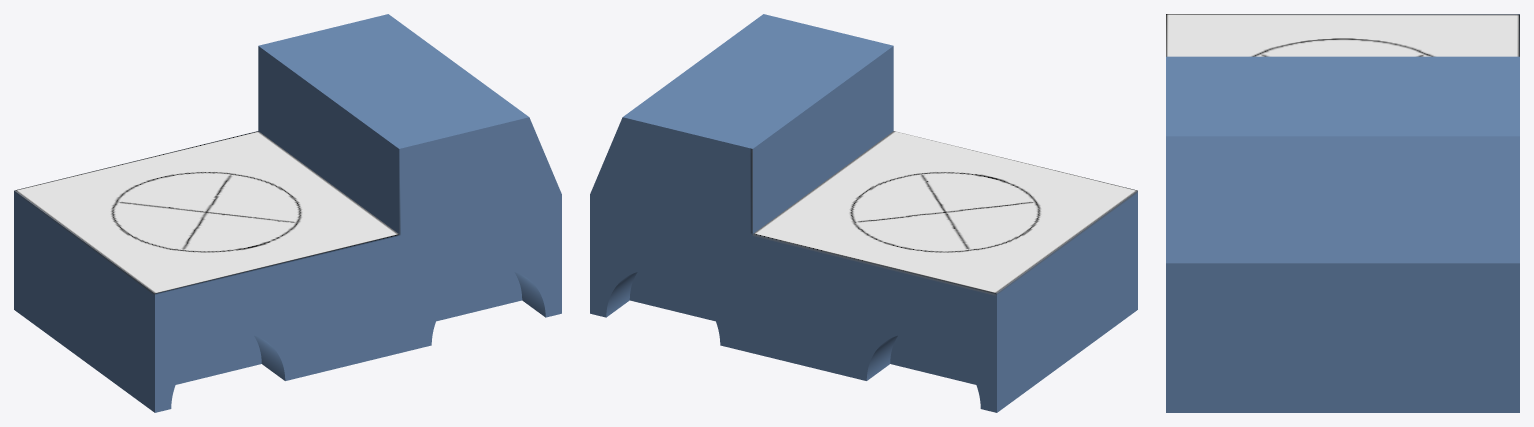
File: truck.dae
3 views of the same model, side by side, from view 1: azimuth 30°, elevation 25°; view 2: azimuth 150°, elevation 25°; view 3: azimuth 270°, elevation 25° (orthographic). The views are drawn at different scales.
Parts seen in each view (by area): view 1: Track_Body; view 2: Track_Body; view 3: Track_Body.
Part boxes in pixels (x1,y1,x2,y2): Track_Body: (14, 14, 561, 412); Track_Body: (590, 14, 1137, 412); Track_Body: (1166, 14, 1519, 412).
Size of the model in its own units: 2500 by 1500 by 1200.
Materials: 1 (1 with a texture image).
